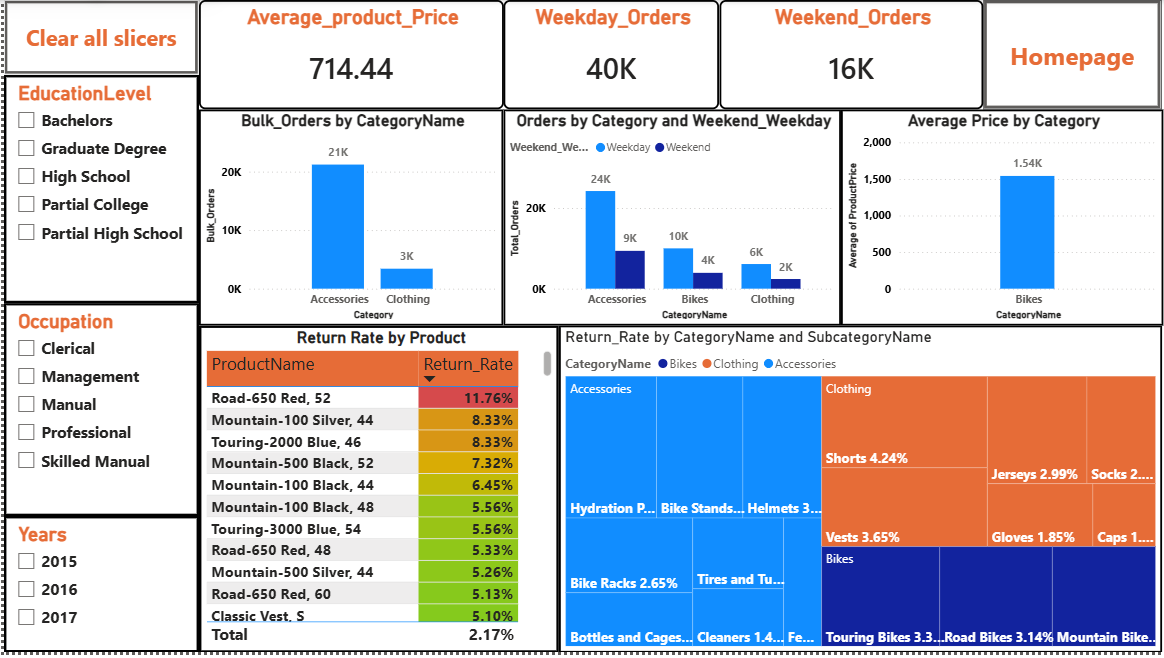

What the dashboard file says about the page in this screenshot:
{"tool":"powerbi","page":{"name":"Category_analysis-2","canvas":[1280,720],"ordinal":2},"visuals":[{"type":"tableEx","title":"Return Rate by Product","fields":{"Values":["Products.ProductName","Returns.Return_Rate"]},"box":[215.3,359.5,397.6,361.1],"z":0},{"type":"treemap","fields":{"Group":["Product_Category.CategoryName"],"Details":["Product_Subcategories.SubcategoryName"],"Values":["Returns.Return_Rate"]},"box":[612.9,359.5,665.9,361.1],"z":1000},{"type":"clusteredColumnChart","fields":{"Category":["Product_Category.CategoryName"],"Y":["Sales.Bulk_Orders"]},"box":[215.3,120.9,336.3,238.5],"z":2000},{"type":"clusteredColumnChart","title":"Orders by Category and Weekend_Weekday","fields":{"Y":["Sales.Total_Orders"],"Category":["Product_Category.CategoryName"],"Series":["Sales.Weekend_Weekday"]},"box":[551.6,120.9,372.7,238.5],"z":3000},{"type":"clusteredColumnChart","title":"Average Price by Category","fields":{"Category":["Product_Category.CategoryName"],"Y":["Avg(Products.ProductPrice)"]},"box":[924.3,120.9,356.1,238.5],"z":4000},{"type":"cardVisual","title":"Average_product_Price","fields":{"Data":["Avg(Products.ProductPrice)"]},"box":[215.4,0,336.4,120.9],"z":5000},{"type":"cardVisual","title":"Weekday_Orders","fields":{"Data":["Sales.Weekday_Orders"]},"box":[551.8,0,238.1,120.9],"z":6000},{"type":"cardVisual","title":"Weekend_Orders","fields":{"Data":["Sales.Weekend_Orders"]},"box":[789.9,0,291,120.9],"z":7000},{"type":"actionButton","title":"Homepage","box":[1081,0,196.5,120.9],"z":8000},{"type":"actionButton","box":[0,0,215.3,82.8],"z":9000},{"type":"slicer","fields":{"Values":["Customers.Occupation"]},"box":[0,334.6,215.3,235.2],"z":10000},{"type":"slicer","fields":{"Values":["Customers.EducationLevel"]},"box":[0,82.8,215.3,251.8],"z":11000},{"type":"slicer","fields":{"Values":["Calendars.Dates.Years"]},"box":[0,569.8,215.3,150.7],"z":12000}]}

Visuals, with their boxes in screenshot pixels (x1, y1, x2, y2), scaled from the page's 1280x720 canvas onto the 1164x658 screenshot:
"Return Rate by Product" tableEx: pyautogui.locateOnScreen(196, 329, 557, 657)
treemap - Product_Category.CategoryName x Product_Subcategories.SubcategoryName: pyautogui.locateOnScreen(557, 329, 1163, 657)
clusteredColumnChart - Product_Category.CategoryName x Sales.Bulk_Orders: pyautogui.locateOnScreen(196, 110, 502, 328)
"Orders by Category and Weekend_Weekday" clusteredColumnChart: pyautogui.locateOnScreen(502, 110, 841, 328)
"Average Price by Category" clusteredColumnChart: pyautogui.locateOnScreen(841, 110, 1163, 328)
"Average_product_Price" cardVisual: pyautogui.locateOnScreen(196, 0, 502, 110)
"Weekday_Orders" cardVisual: pyautogui.locateOnScreen(502, 0, 718, 110)
"Weekend_Orders" cardVisual: pyautogui.locateOnScreen(718, 0, 983, 110)
"Homepage" actionButton: pyautogui.locateOnScreen(983, 0, 1162, 110)
actionButton: pyautogui.locateOnScreen(0, 0, 196, 76)
slicer - Customers.Occupation: pyautogui.locateOnScreen(0, 306, 196, 521)
slicer - Customers.EducationLevel: pyautogui.locateOnScreen(0, 76, 196, 306)
slicer - Calendars.Dates.Years: pyautogui.locateOnScreen(0, 521, 196, 657)
